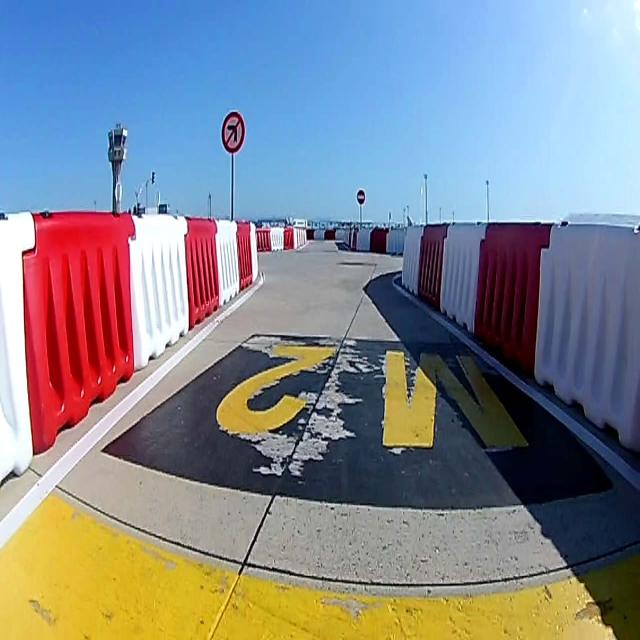girisyok: (356, 186, 366, 206)
soladonulmez: (221, 111, 245, 150)
